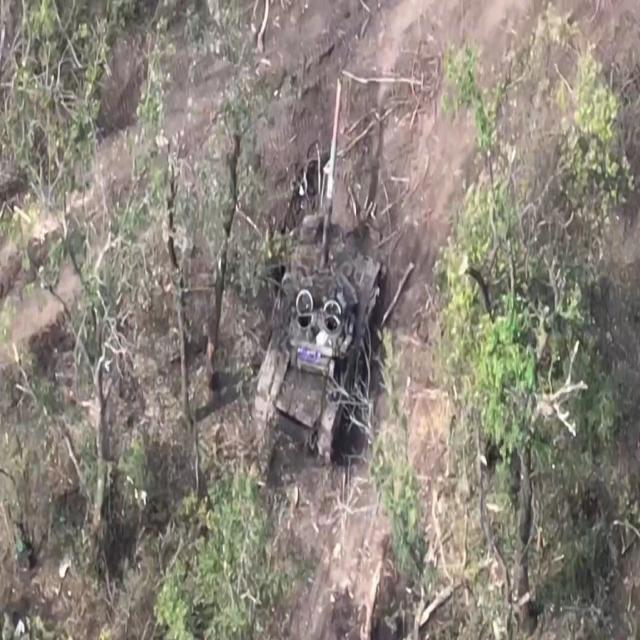MBT: (256, 76, 384, 462)
